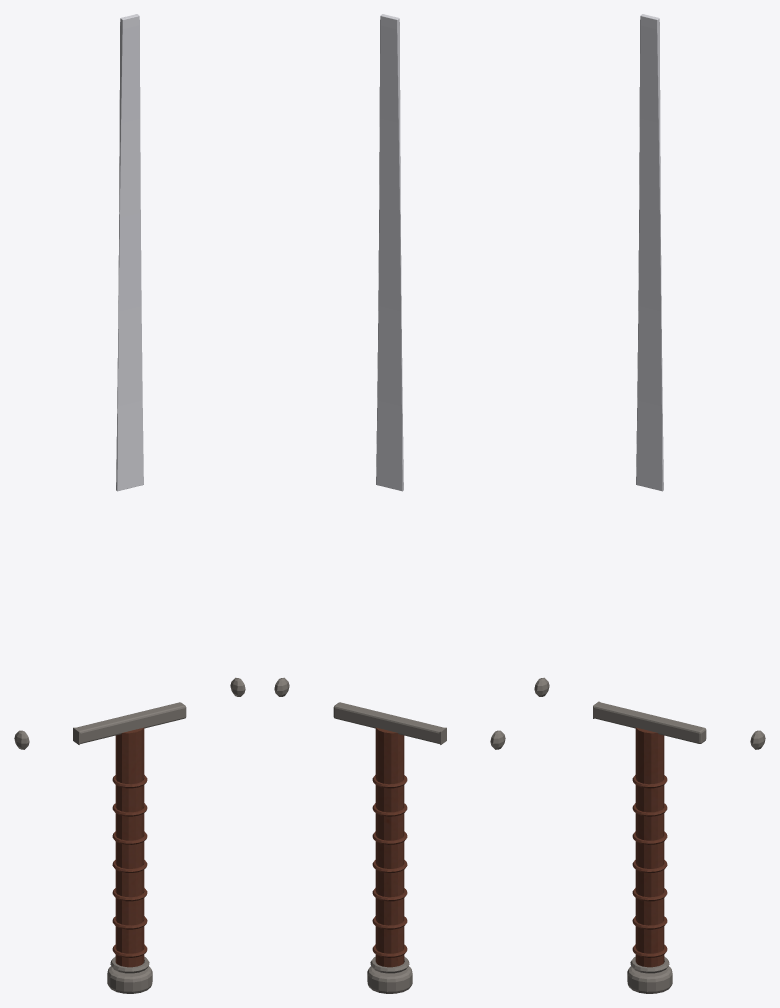
File: claymore.fbx
3 renders of one model, left to right at view 1: azimuth 30°, elevation 25°; view 2: azimuth 150°, elevation 25°; view 3: azimuth 330°, elevation 25°, orthographic.
Parts seen in each view (by area): view 1: claymore; view 2: claymore; view 3: claymore.
Boxes of the visible parts, <box> form: claymore: <box>14,14,245,993</box>; claymore: <box>274,14,505,993</box>; claymore: <box>534,14,765,993</box>.
Size of the model in its own units: 0.2528 by 1.03 by 0.044.
3 materials, 1 textured.
